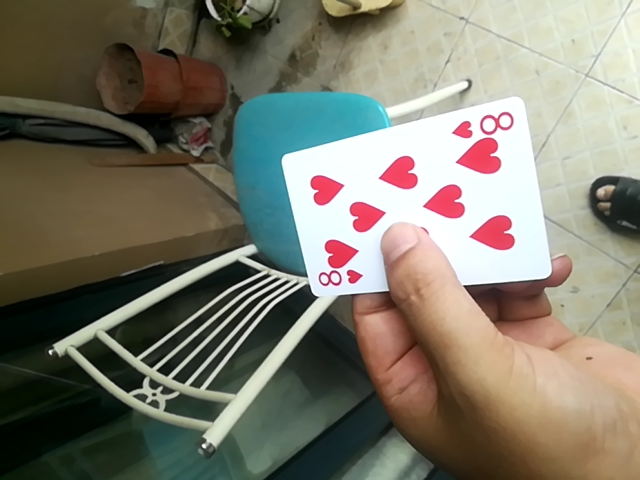hx 8: (279, 97, 551, 296)
